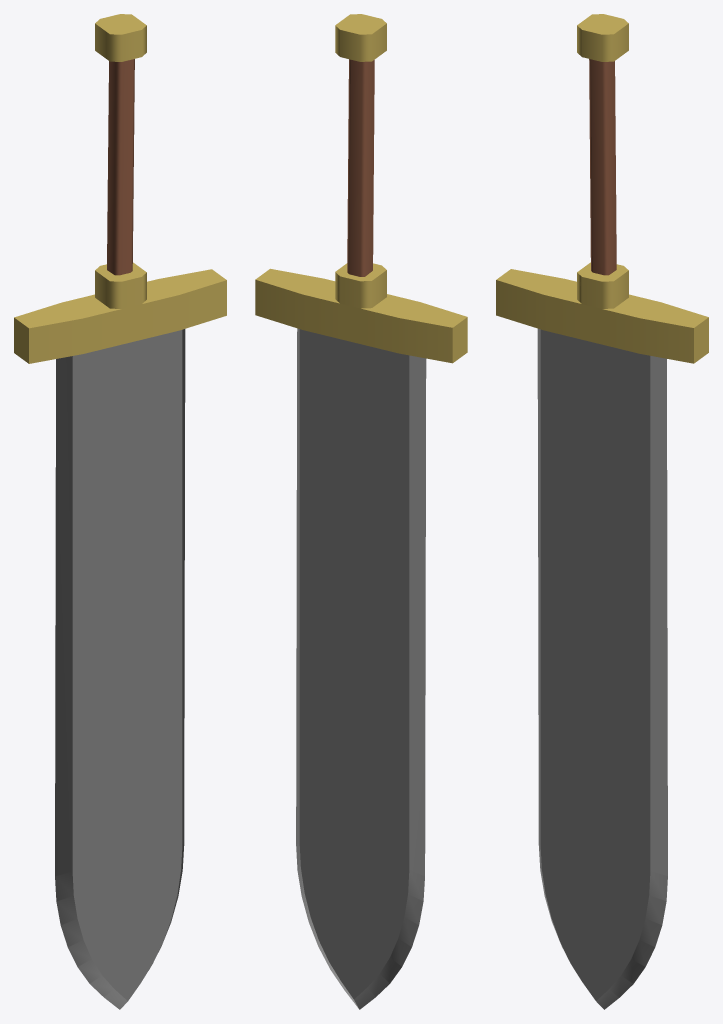
File: Sword01.fbx
The picture shows the model from 3 angles, left to right: view 1: azimuth 30°, elevation 25°; view 2: azimuth 150°, elevation 25°; view 3: azimuth 330°, elevation 25°; orthographic projection.
Visible parts, largest first — view 1: Sword02; view 2: Sword02; view 3: Sword02.
Boxes of the visible parts, x1,y1,x2,y2 form: Sword02: (14, 14, 226, 1009); Sword02: (255, 14, 467, 1009); Sword02: (496, 14, 708, 1009).
Size of the model in its own units: 26.28 by 125 by 4.98.
